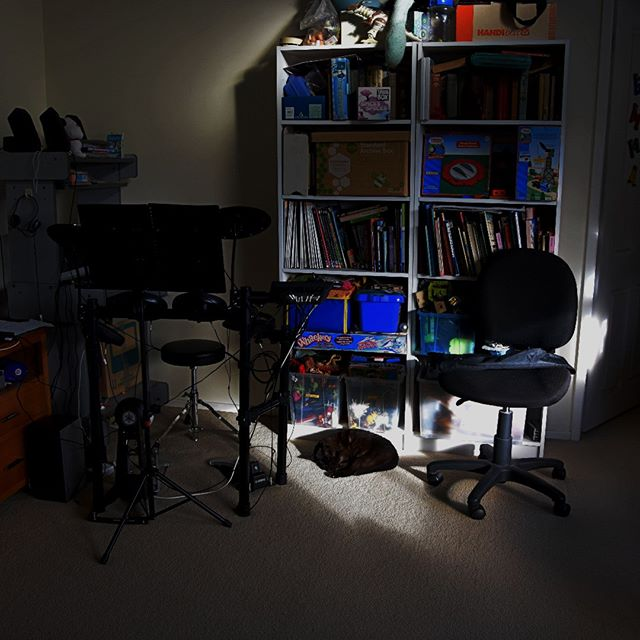bookshelve: (269, 49, 565, 272)
chair: (441, 239, 589, 515)
